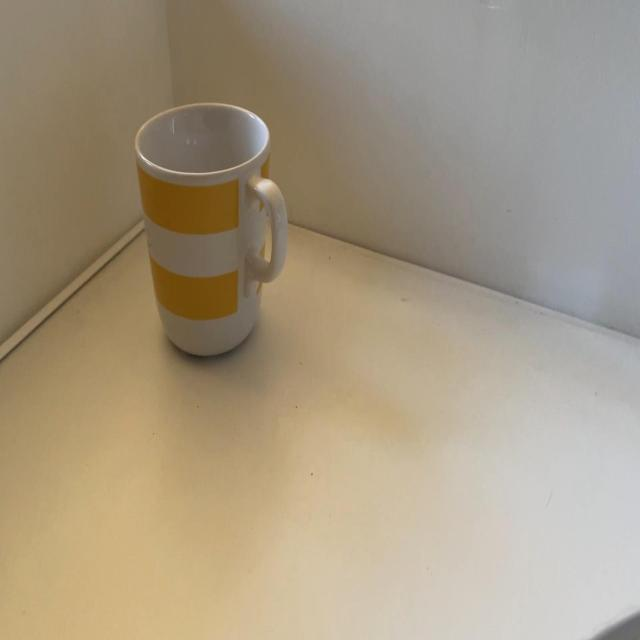cup: (128, 99, 294, 361)
